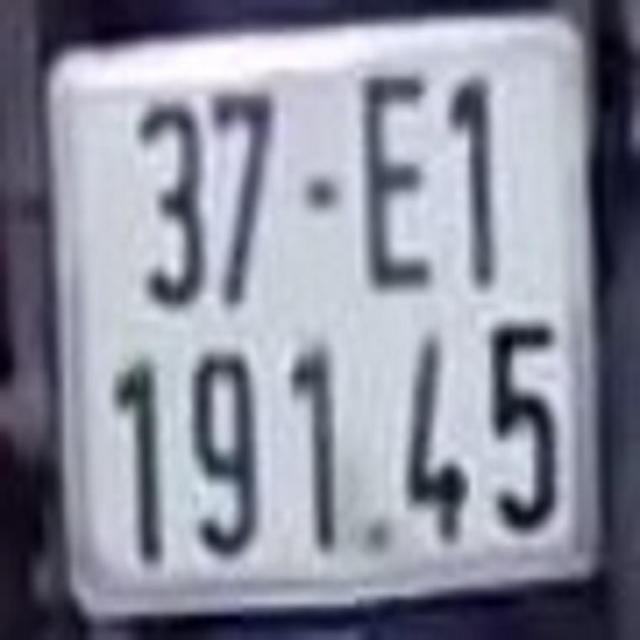1: (288, 350, 347, 550), (116, 366, 167, 564), (454, 80, 498, 285)
3: (136, 96, 203, 306)
4: (402, 340, 465, 540)
5: (491, 326, 557, 524)
7: (210, 89, 274, 306)
9: (197, 356, 259, 558)
E: (363, 79, 439, 296)
